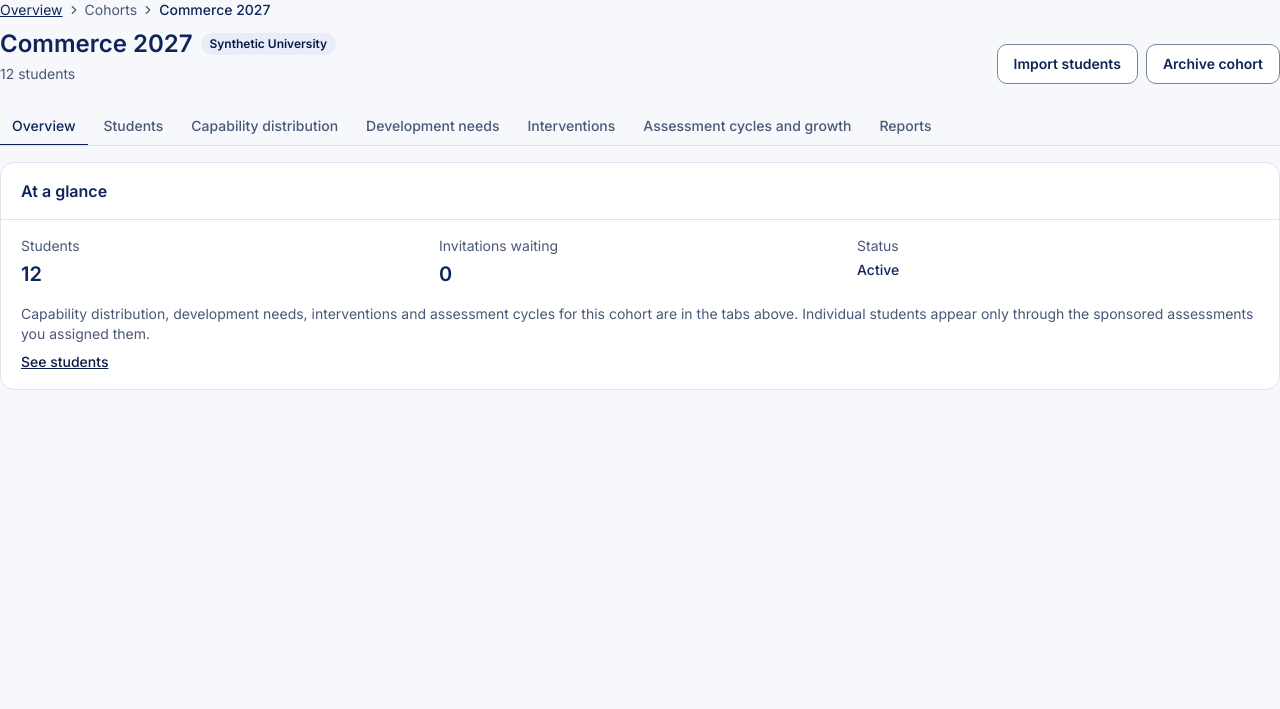
Test case: Cohort sections › opens on an overview and offers students, capability distribution, development needs, interventions, cycles and reports
Expected: the heading "Commerce 2027" is shown, [0,28,192,60]
Expected: the tab "Overview" is shown, [0,108,88,146]
Click the tab "Students" at (133, 127), box [92,108,175,146]
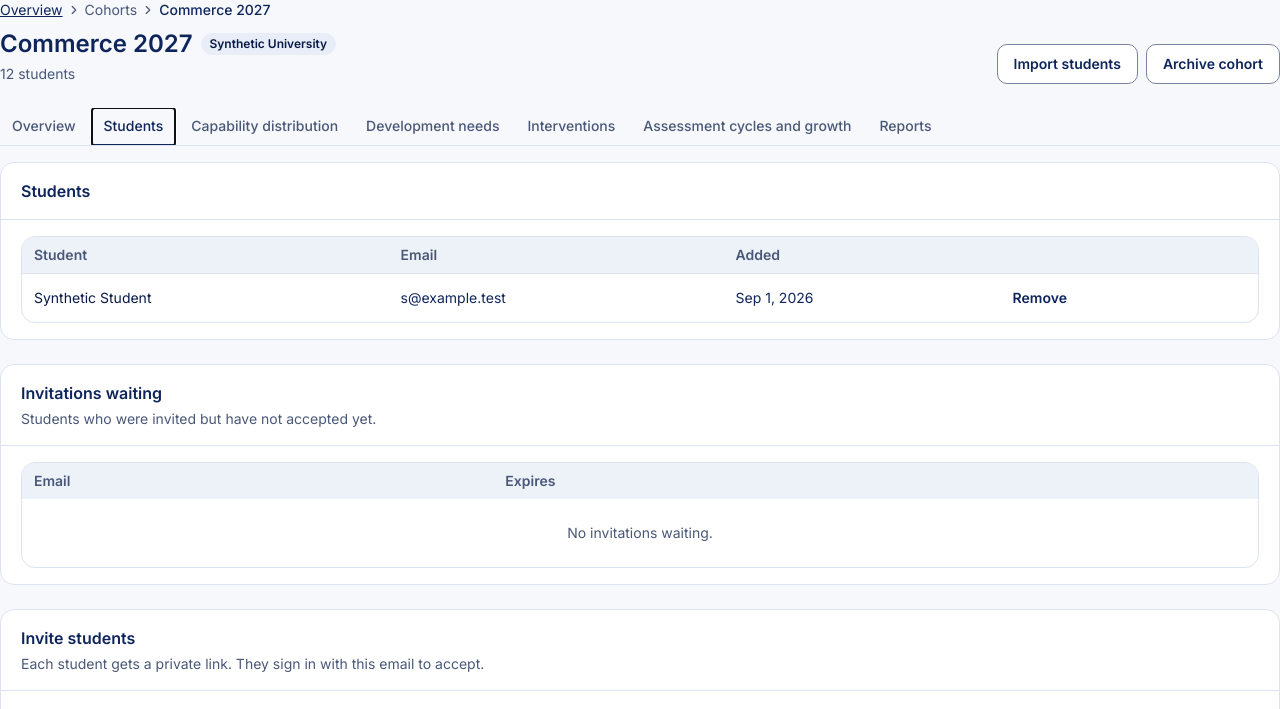
Expected: the table named "Students in Commerce 2027" is shown, [22,237,1258,322]
